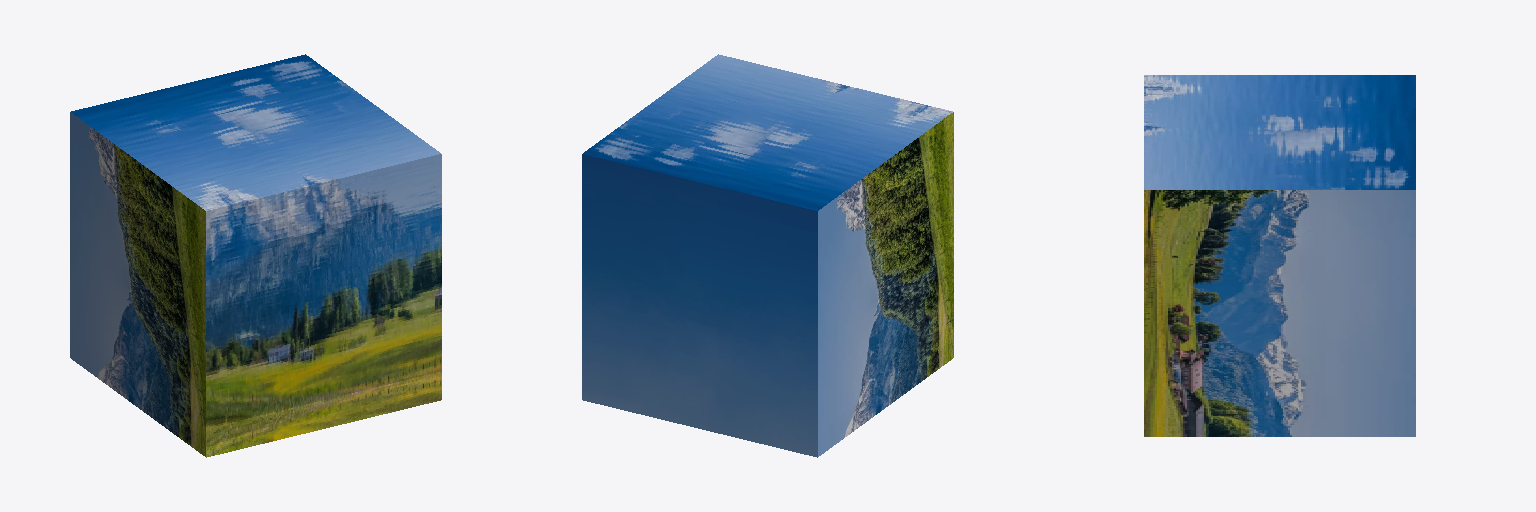
3 views of the same model, side by side, from view 1: azimuth 30°, elevation 25°; view 2: azimuth 150°, elevation 25°; view 3: azimuth 270°, elevation 25° (orthographic).
Parts seen in each view (by area): view 1: Cube; view 2: Cube; view 3: Cube.
Part boxes in pixels (x1,y1,x2,y2): Cube: (70,54,441,457); Cube: (582,54,953,457); Cube: (1144,75,1415,436).
Size of the model in its own units: 2 by 2 by 2.
1 materials, 1 textured.